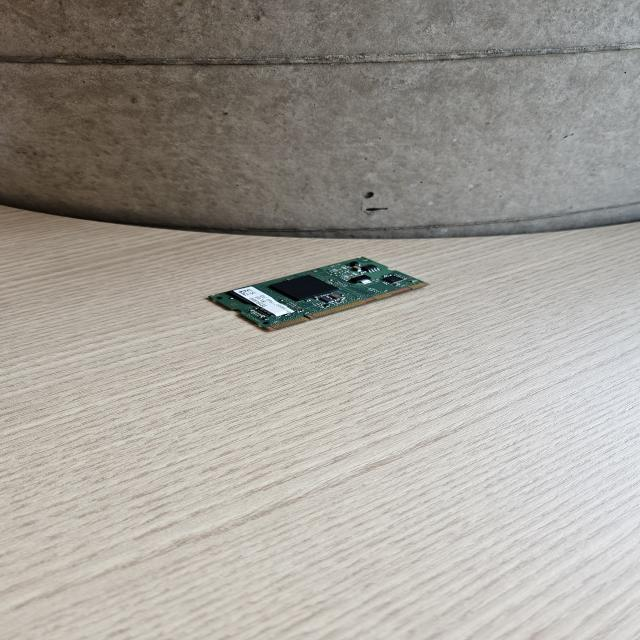som: (202, 253, 437, 336)
